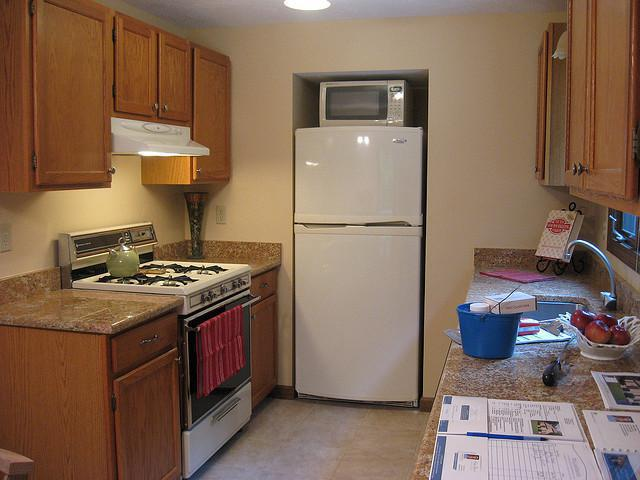Lavaplatos: (457, 234, 618, 334)
